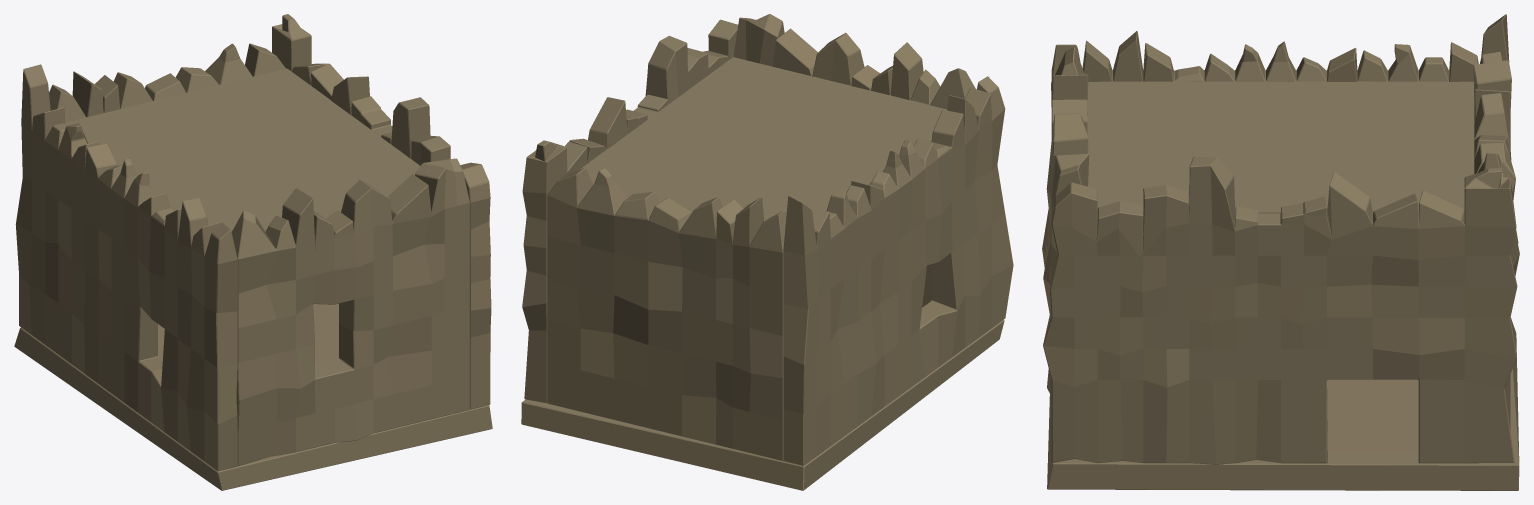
Rendered from hut_1.fbx.
The picture shows the model from 3 angles, left to right: view 1: azimuth 30°, elevation 25°; view 2: azimuth 150°, elevation 25°; view 3: azimuth 270°, elevation 25°; orthographic projection. The views are drawn at different scales.
Parts seen in each view (by area): view 1: Kostka.001; view 2: Kostka.001; view 3: Kostka.001.
Part boxes in pixels (x1,y1,x2,y2): Kostka.001: [14, 14, 492, 490]; Kostka.001: [521, 14, 1013, 490]; Kostka.001: [1042, 14, 1519, 490].
Size of the model in its own units: 1325 by 1264 by 1675.
